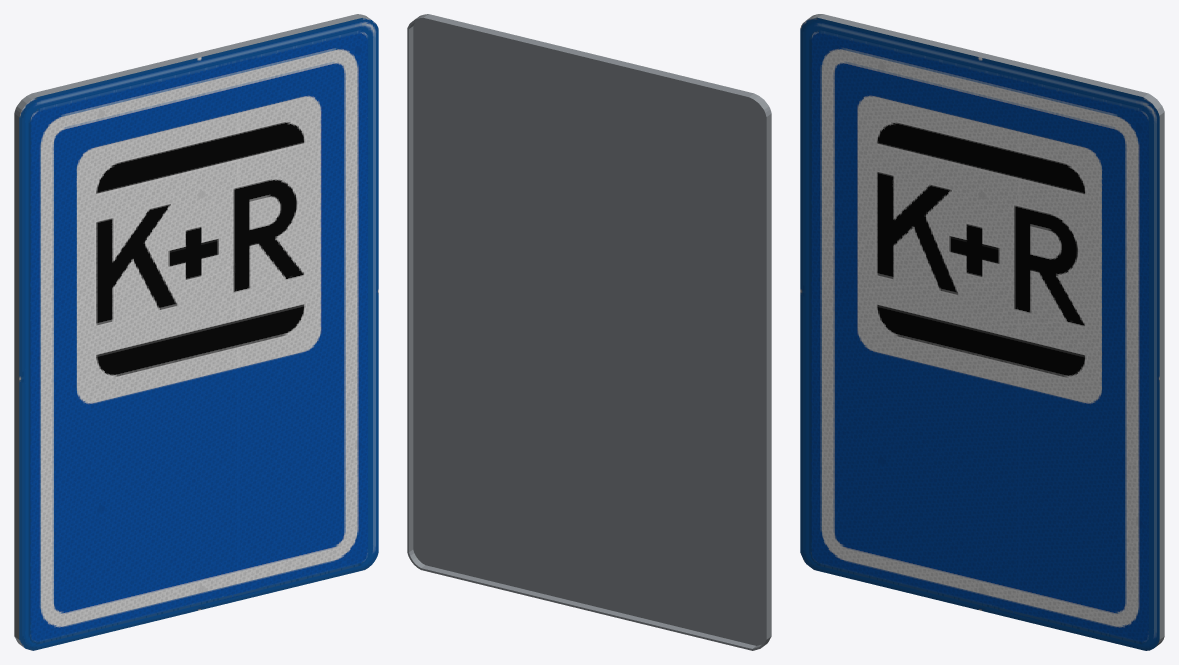
The picture shows the model from 3 angles, left to right: view 1: azimuth 30°, elevation 25°; view 2: azimuth 150°, elevation 25°; view 3: azimuth 330°, elevation 25°; orthographic projection.
Parts seen in each view (by area): view 1: cat_a93ec26a8088004d; view 2: cat_a93ec26a8088004d; view 3: cat_a93ec26a8088004d.
Part boxes in pixels (x1=…): cat_a93ec26a8088004d: x1=14, y1=14, x2=378, y2=650; cat_a93ec26a8088004d: x1=407, y1=14, x2=771, y2=650; cat_a93ec26a8088004d: x1=800, y1=14, x2=1164, y2=650.
Bounding box in the file's own units: 0.6 × 0.015 × 0.8822.
2 materials, 1 textured.
